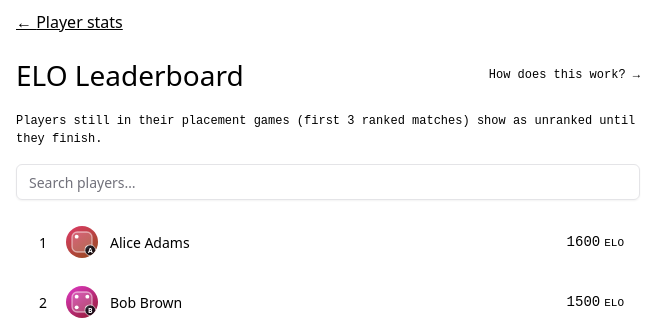
Test: stats leaderboard navigation › filters the ELO leaderboard without changing its ranks
Check: the text "Alice Adams" is shown, box [110,232,190,252]
Type "bob" into the field labelled "Search players".
click(328, 182); type("bob")  # box [16,164,640,200]
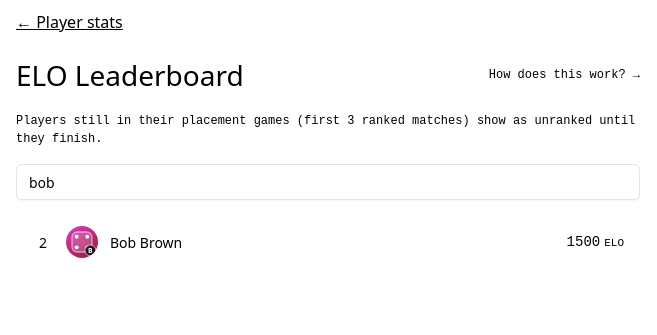
Check: the text "Bob Brown" is shown, box [110,232,182,252]
Check: the link "Alice Adams" is gone
